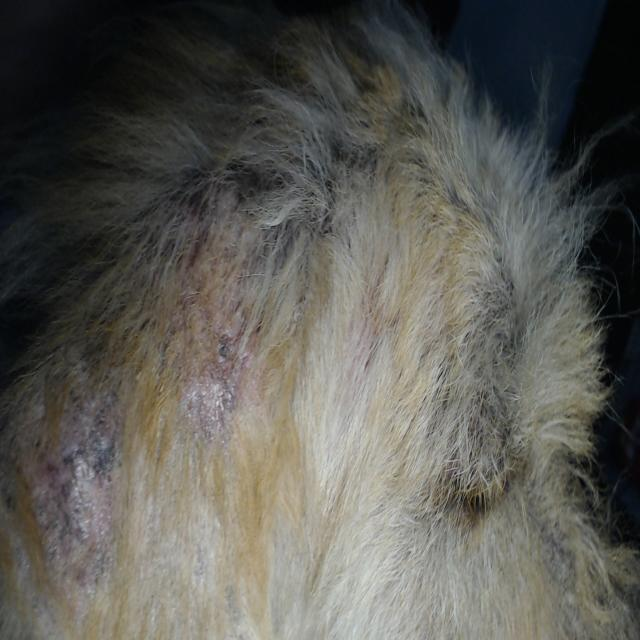demodicosis: (21, 389, 146, 574), (164, 290, 267, 433)
